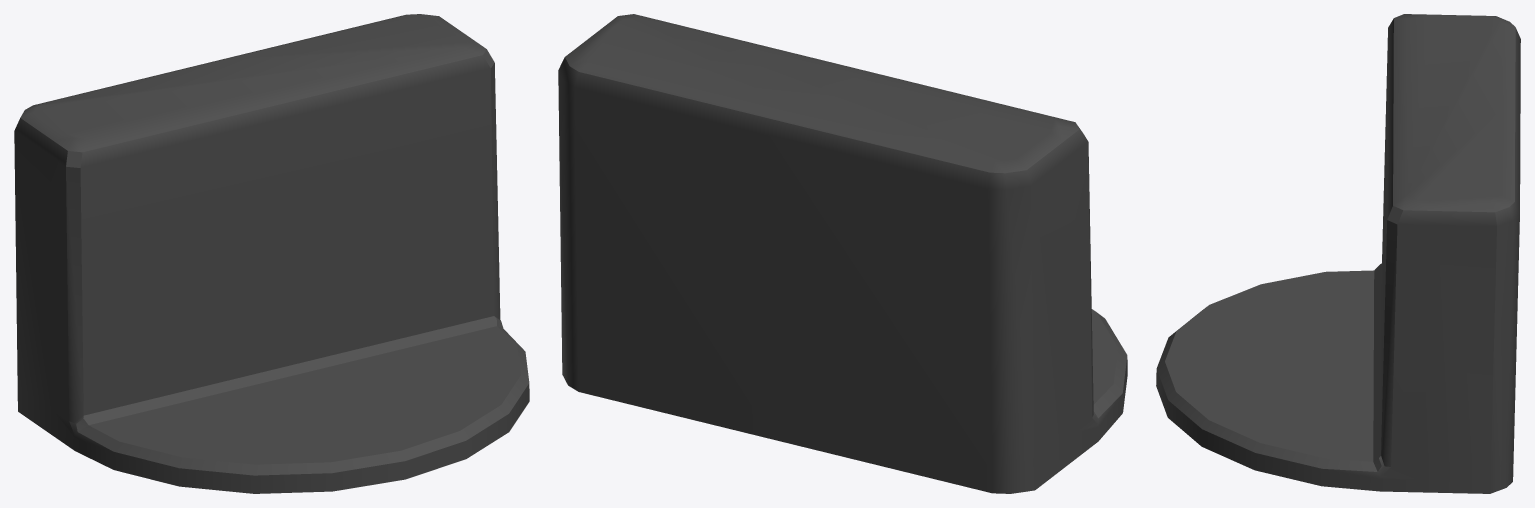
File: BaseDock.fbx
3 renders of one model, left to right at view 1: azimuth 30°, elevation 25°; view 2: azimuth 150°, elevation 25°; view 3: azimuth 270°, elevation 25°, orthographic. The views are drawn at different scales.
Visible parts, largest first — view 1: BaseDock; view 2: BaseDock; view 3: BaseDock.
Part boxes in pixels (bbox=[...]): BaseDock: bbox=[14, 14, 529, 493]; BaseDock: bbox=[558, 14, 1127, 493]; BaseDock: bbox=[1156, 14, 1520, 493].
Bounding box in the file's own units: 39.21 × 26.07 × 30.06.
